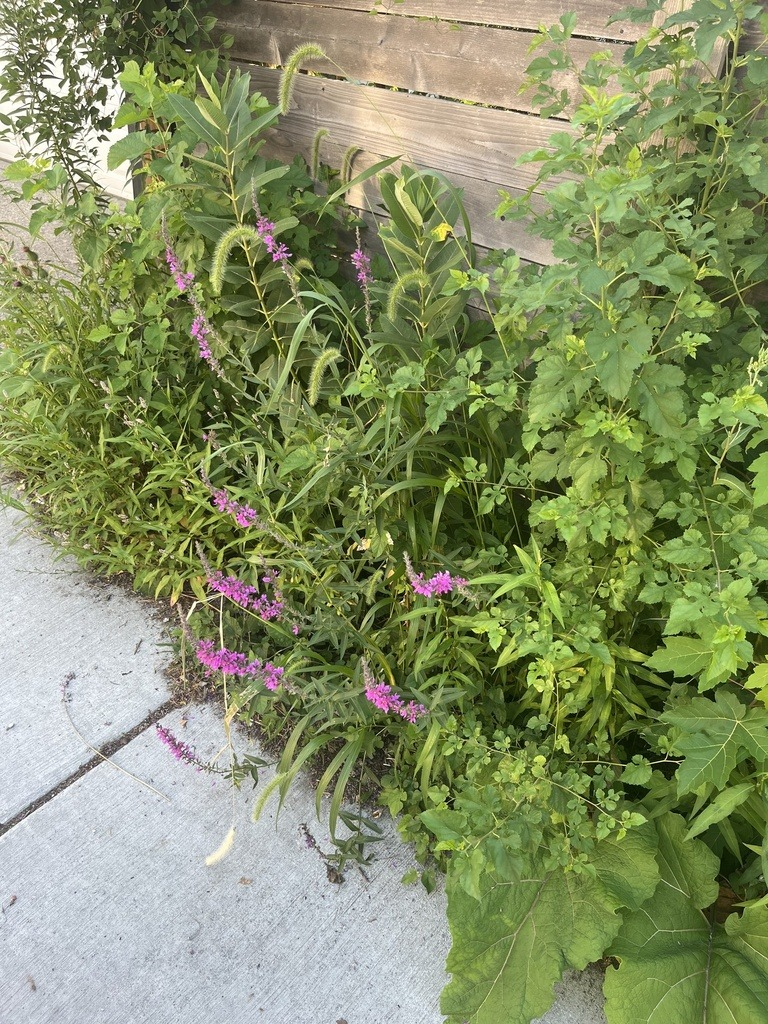purple loosestrife: (157, 209, 469, 728)
